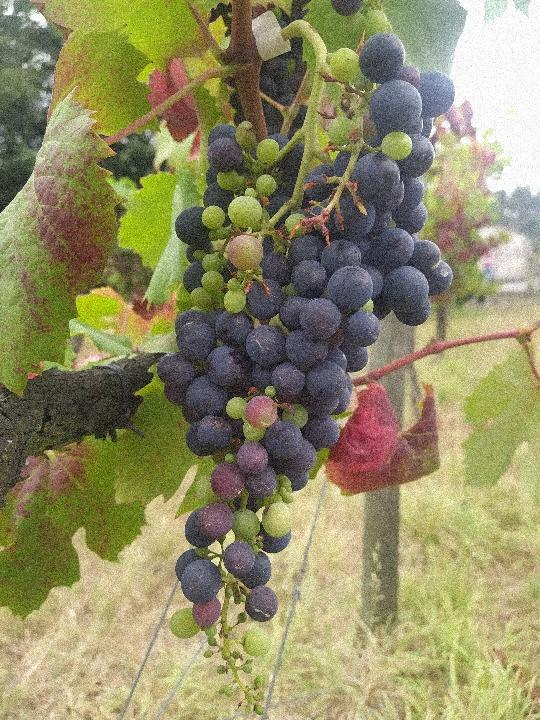grape: (158, 32, 452, 715)
